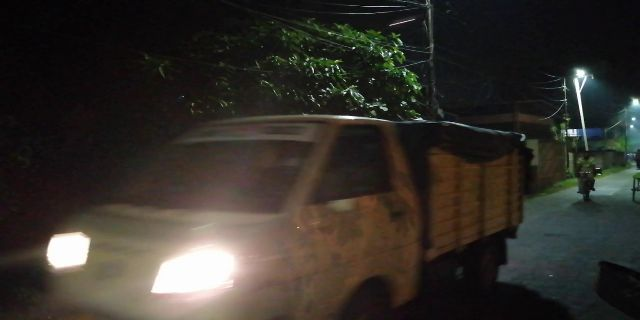Minitruck: (91, 114, 532, 315)
